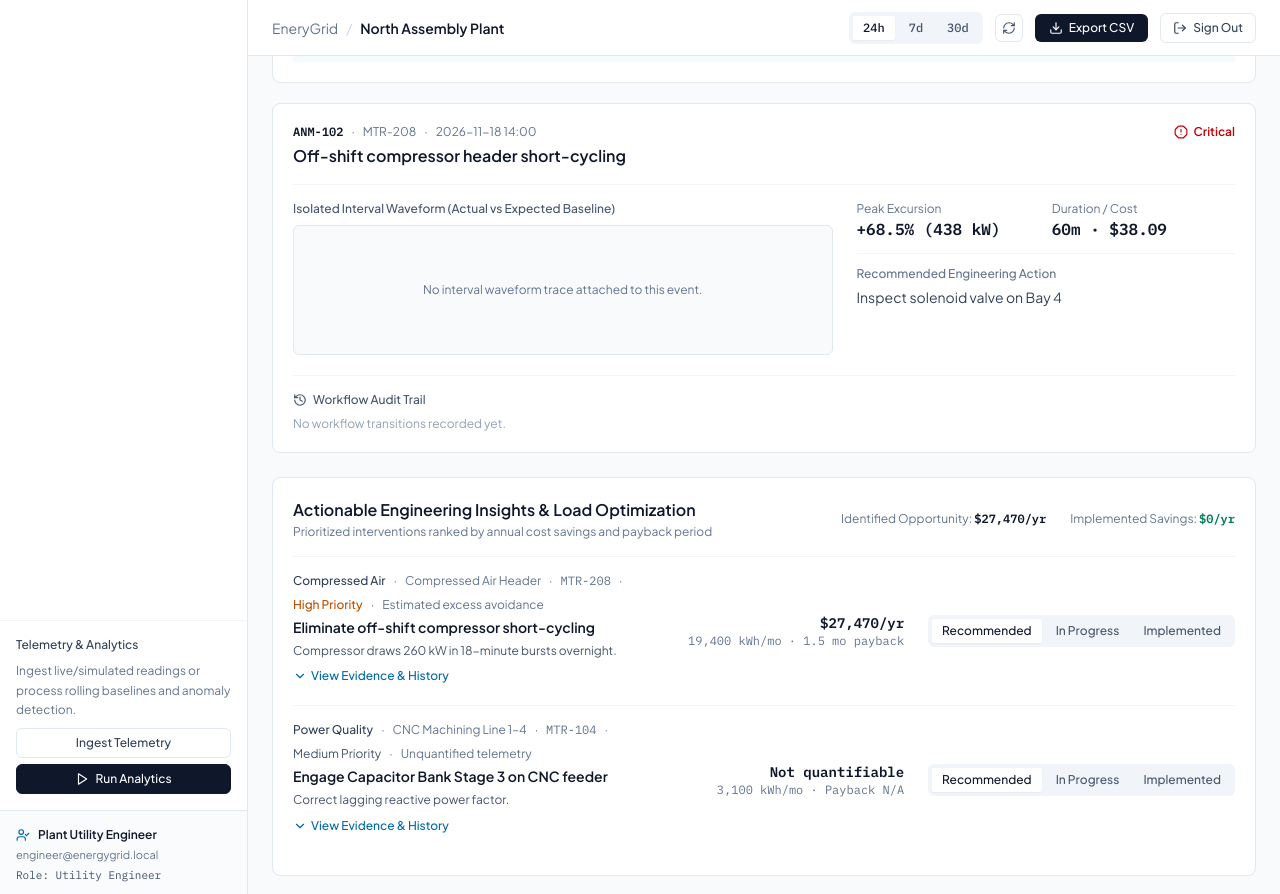
Test case: EneryGrid backend-integrated dashboard › persists insight status via PATCH /insights/{id} and surfaces 409 conflicts clearly
The width and height of the screenshot is (1280, 894).
(page scrolled)
Check: the heading "Eliminate off-shift compressor short-cycling" is shown, box [293,618,595,636]
Click the button "Implemented" in the row of "1.5 mo payback": (1182, 631) [1133,619,1231,643]
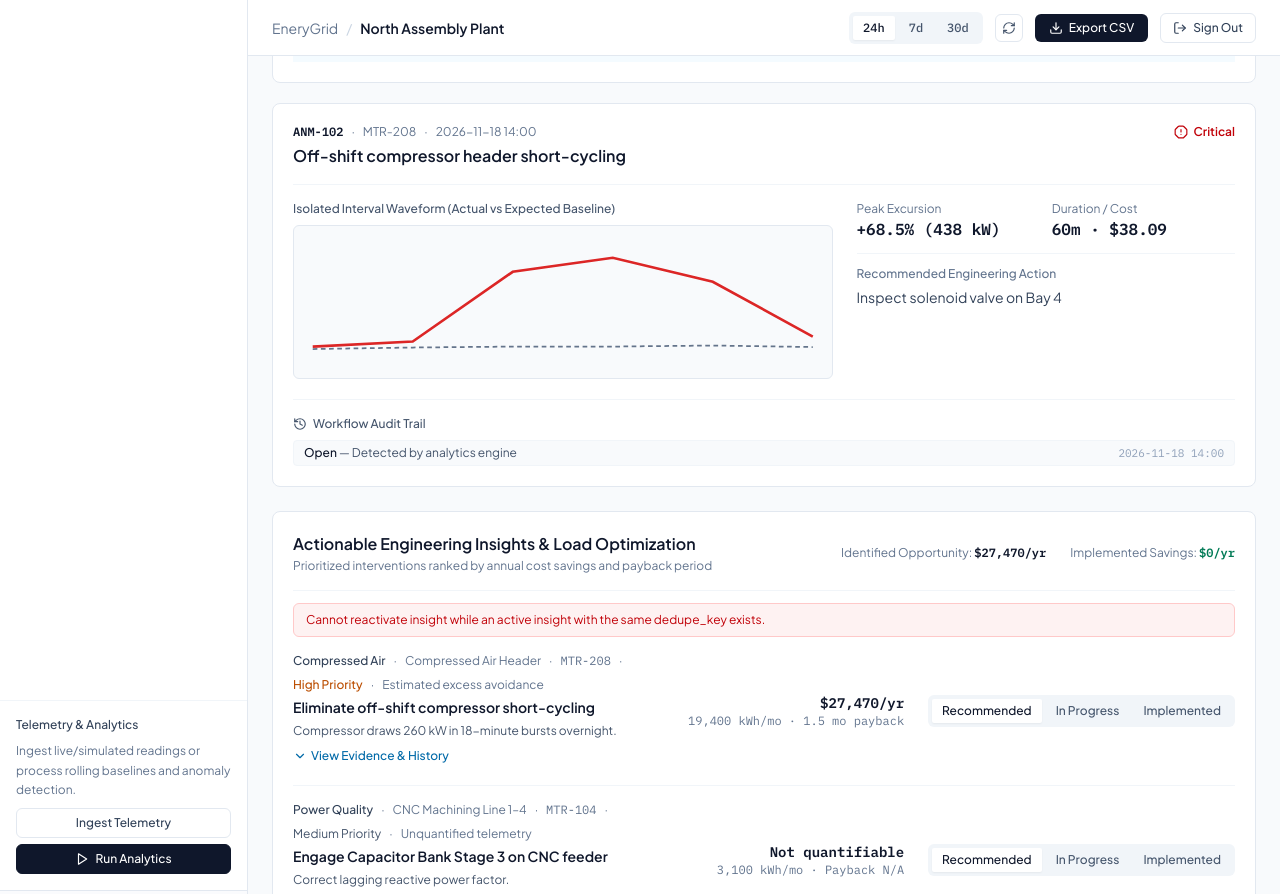
Check: the text "Cannot reactivate insight" is shown, box [306,612,765,627]
